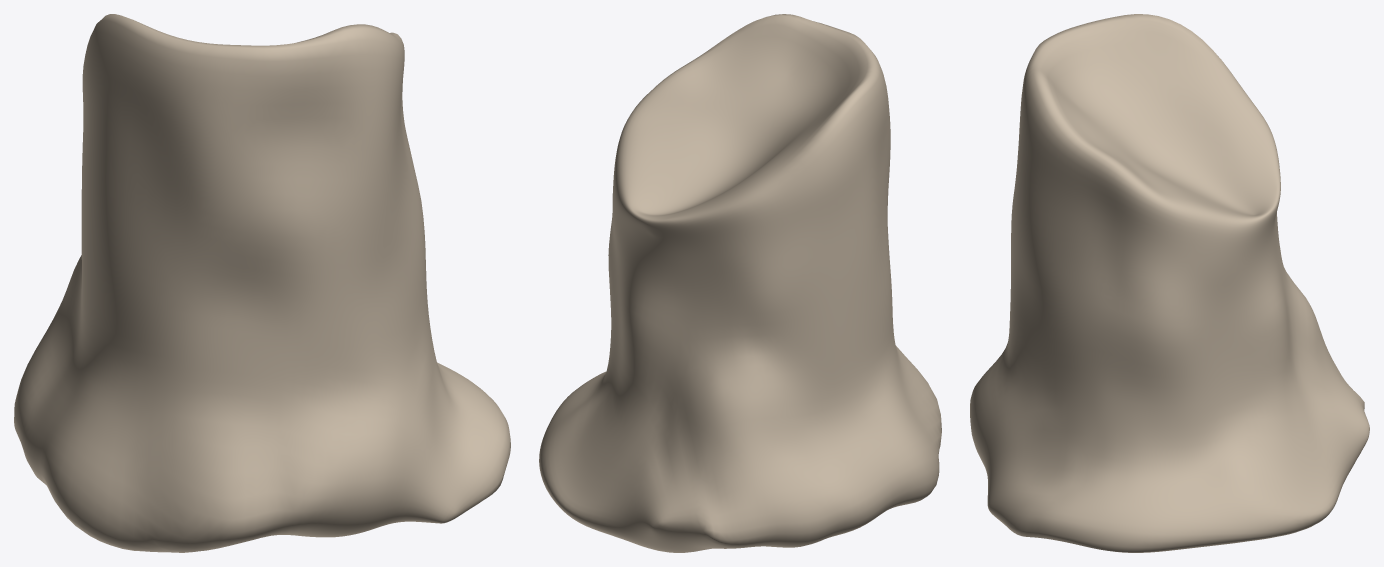
File: bougie_grande.fbx
3 renders of one model, left to right at view 1: azimuth 30°, elevation 25°; view 2: azimuth 150°, elevation 25°; view 3: azimuth 270°, elevation 25°, orthographic. The views are drawn at different scales.
Parts seen in each view (by area): view 1: pCylinder4; view 2: pCylinder4; view 3: pCylinder4.
Part boxes in pixels (<box>): pCylinder4: <box>14,14,510,552</box>; pCylinder4: <box>539,14,941,552</box>; pCylinder4: <box>970,14,1369,552</box>.
Size of the model in its own units: 0.4986 by 0.5651 by 0.4865.
